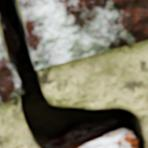brick: (80, 134, 136, 147)
broken_brick: (19, 0, 147, 68), (0, 34, 20, 104)
crack: (0, 0, 147, 147)
